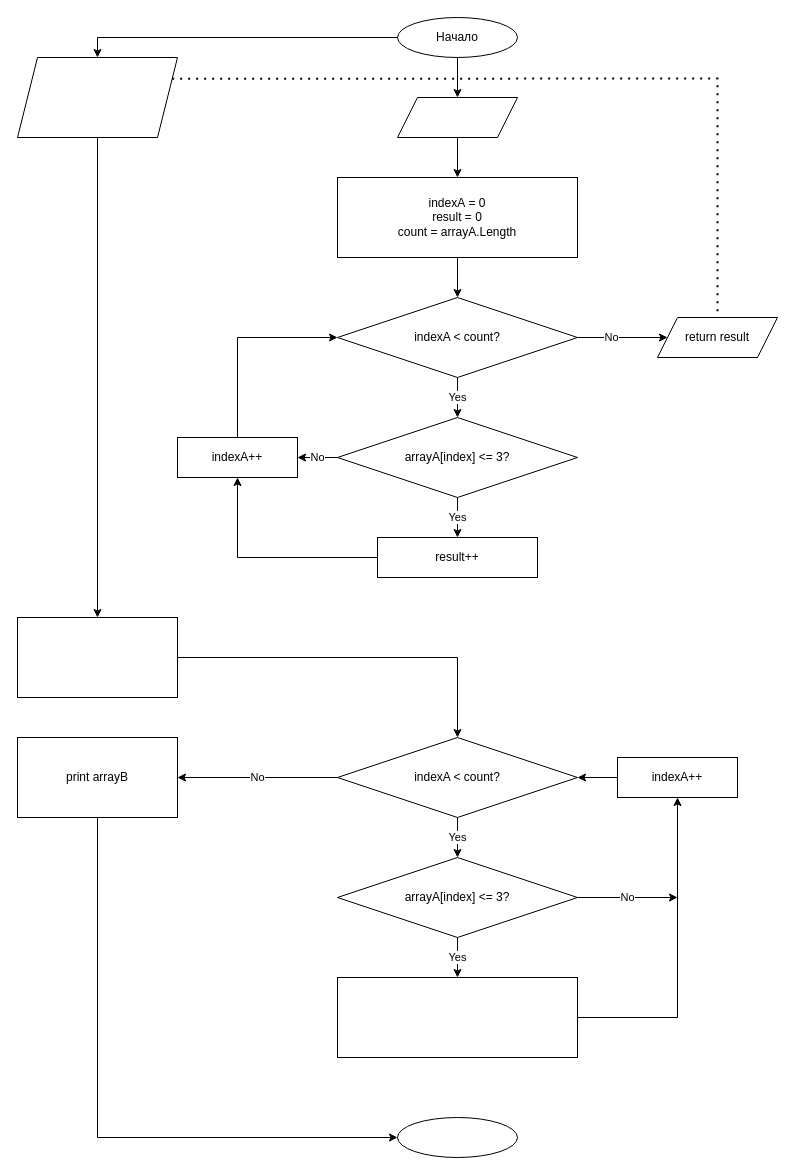
Image size: 795x1175. Some labels were removed from this diagram. Each missing label, with the centre of its shape:
arrayA: the point at 457,117
arrayB arrayBsize = result: the point at 97,97
arrayB[index] = arrayA[index] arrayB[index]++: the point at 457,1017
count = arrayA.Length indexА = 0 indexB = 0: the point at 97,657
End: the point at 457,1137
